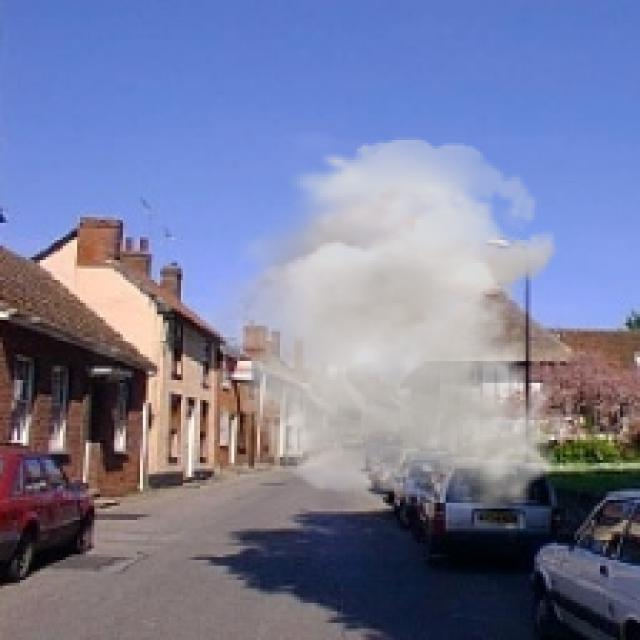Smoke: (188, 137, 568, 512)
